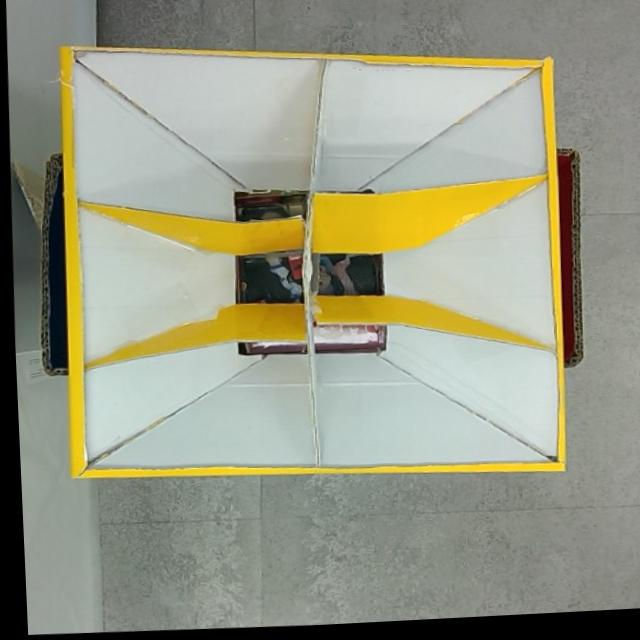box: (25, 23, 592, 495)
